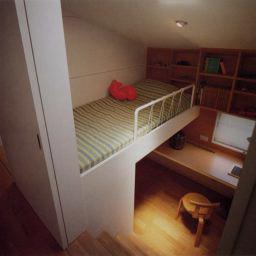Escaleras: (69, 234, 185, 255)
Puerta: (0, 1, 65, 250)
